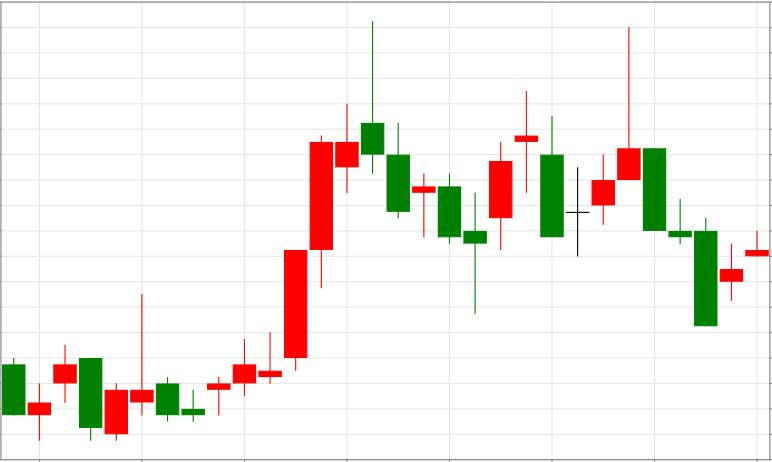shooting_star_fall: (207, 21, 385, 416)
